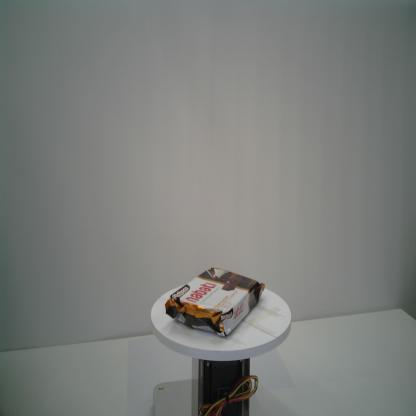Dessert: (164, 265, 266, 340)
